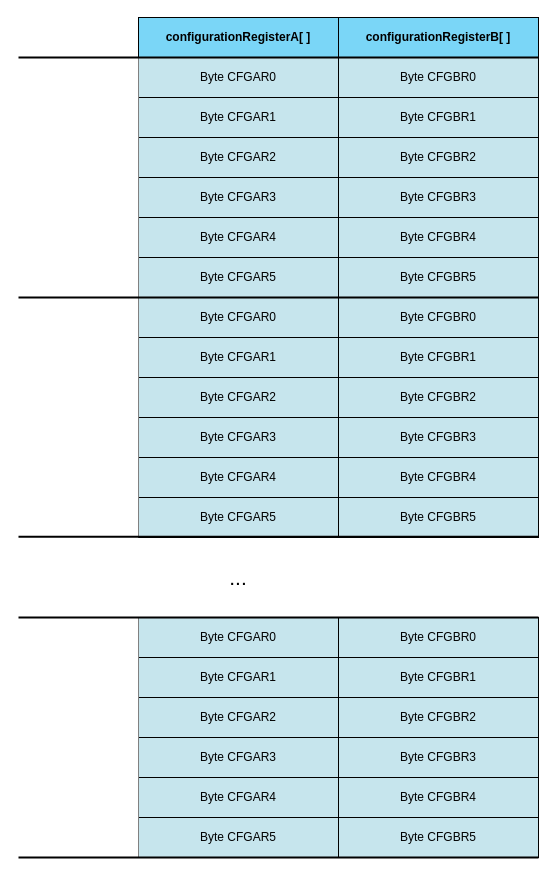
The diagram is 557 pixels wide and 877 high, and some of its shapes have lost their labels. The shapes that lost their labels are listed below. From the top down, each one's centre as x and y in pixels, then its label:
At (78,177): "Module 0".
At (78,417): "Module 1".
At (78,737): "Module N-1".
